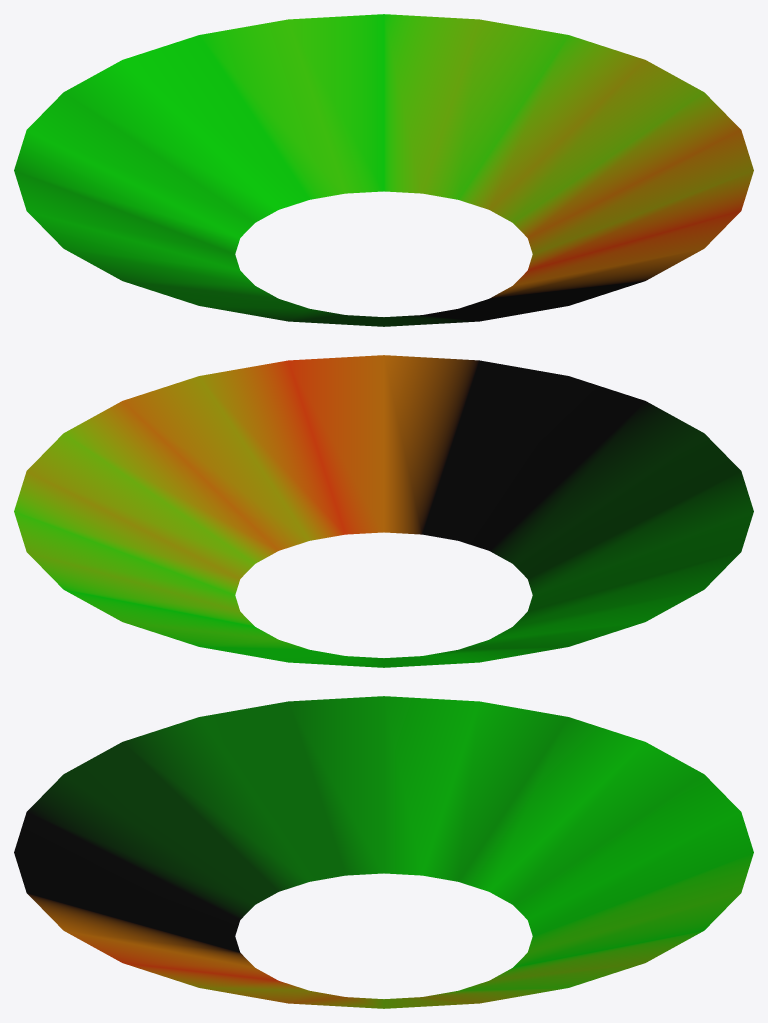
File: sertz__uni_hitfan.glb
3 views of the same model, one above another, from view 1: azimuth 30°, elevation 25°; view 2: azimuth 150°, elevation 25°; view 3: azimuth 270°, elevation 25° (orthographic).
Parts seen in each view (by area): view 1: uni_hitfan; view 2: uni_hitfan; view 3: uni_hitfan.
Part boxes in pixels (x1,y1,x2,y2): uni_hitfan: [14, 14, 753, 326]; uni_hitfan: [14, 355, 753, 667]; uni_hitfan: [14, 696, 753, 1008].
Bounding box in the file's own units: 256 × 32 × 256.
